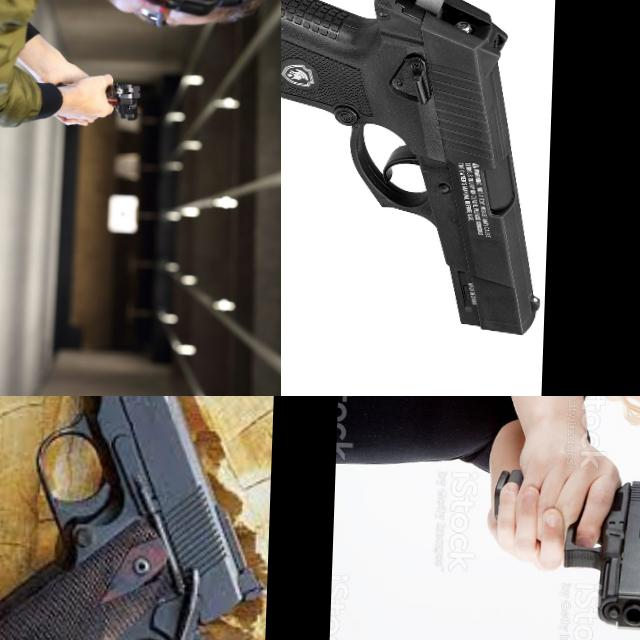handgun: (281, 0, 553, 337), (0, 396, 280, 640), (558, 475, 640, 634), (98, 78, 143, 124)
